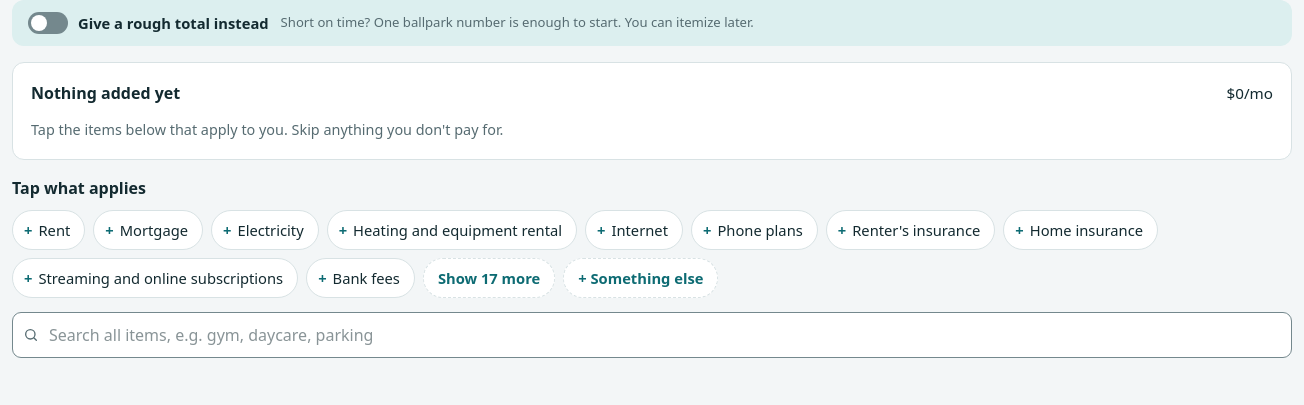
Test: ItemSearch › says when nothing matches
Step 1. Type "zzzz" into the search field → (652, 335), box [12,312,1292,358]
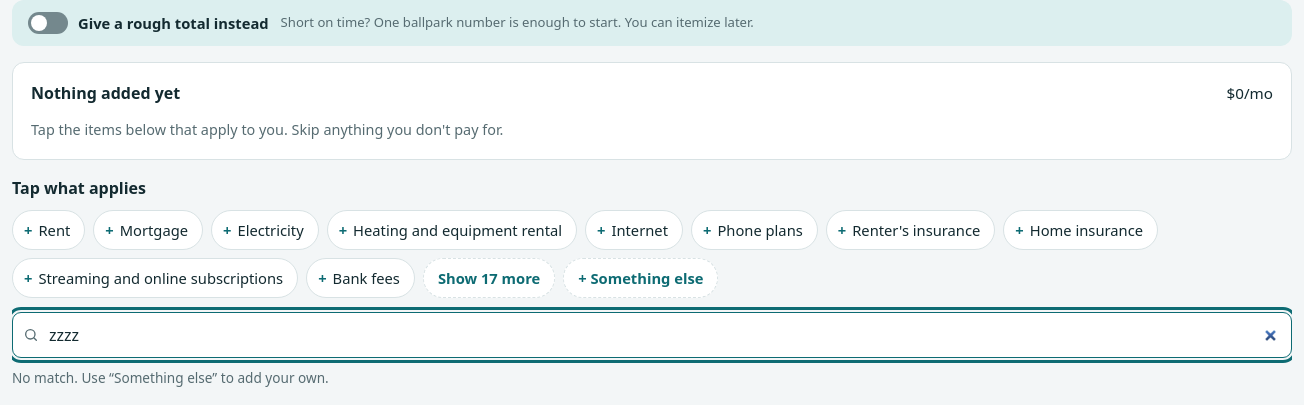
Expected: the text "No match. Use “Something else” to add your own." is shown, [12,368,329,388]
